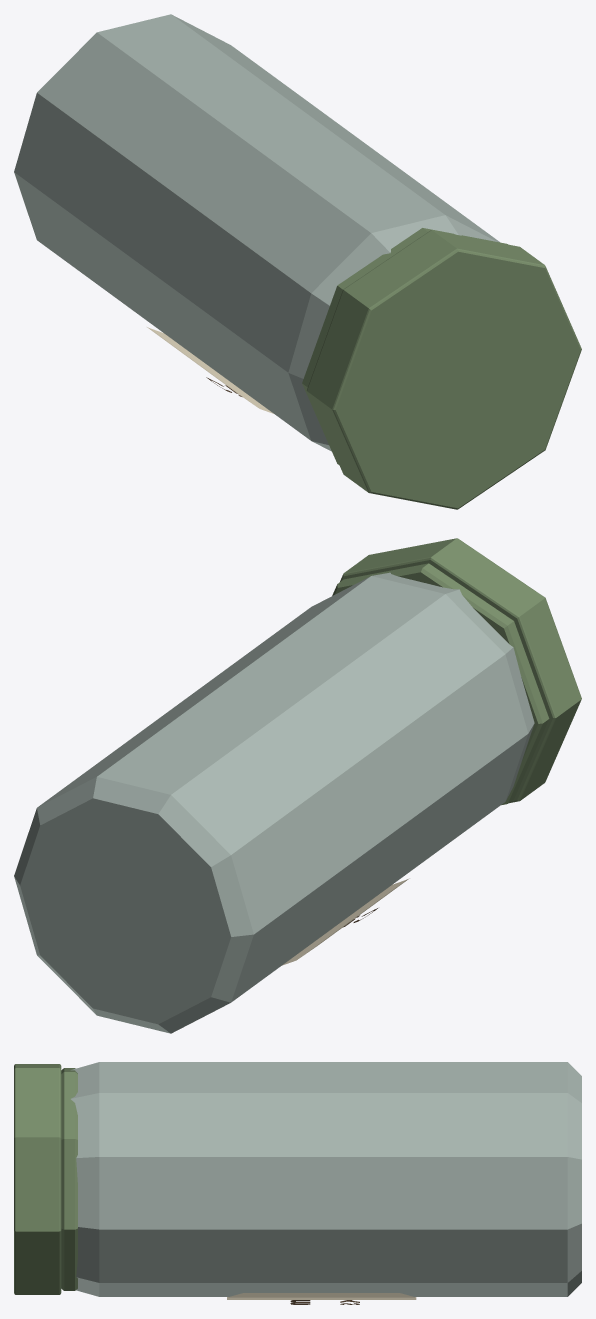
Rendered from cinnamon_sticks.glb.
3 views of the same model, one above another, from view 1: azimuth 30°, elevation 25°; view 2: azimuth 150°, elevation 25°; view 3: azimuth 270°, elevation 25° (orthographic). The views are drawn at different scales.
Parts seen in each view (by area): view 1: cinnamon_sticks; view 2: cinnamon_sticks; view 3: cinnamon_sticks.
Part boxes in pixels (<box>): cinnamon_sticks: <box>14,14,581,509</box>; cinnamon_sticks: <box>14,538,581,1033</box>; cinnamon_sticks: <box>14,1062,581,1304</box>.
Bounding box in the file's own units: 0.052 × 0.0525 × 0.12.
